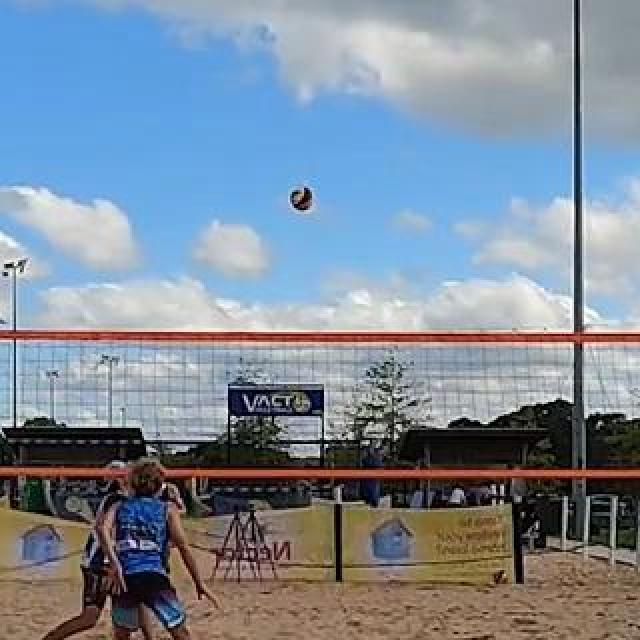volleyball: (290, 188, 316, 212), (492, 567, 508, 587)
